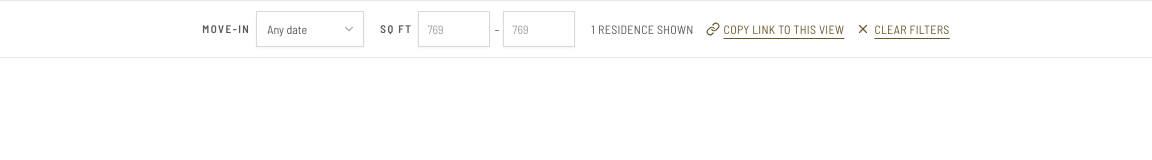
Test: UnitFilterRow filtered-link copy control › keeps the success confirmation path free of failure feedback
Click the button with test id "button-copy-filtered-view-link".
click(775, 29)  # box [706,11,844,47]
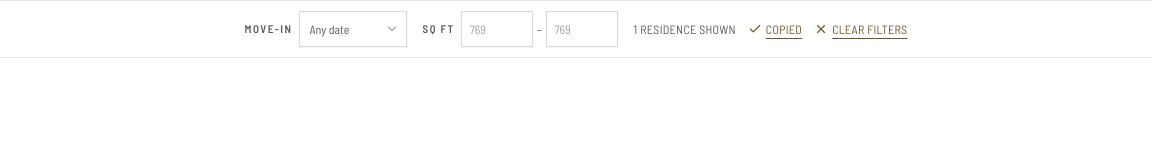
Result: the button with test id "button-copy-filtered-view-link" reads "Copied" at [748,11,802,47]
